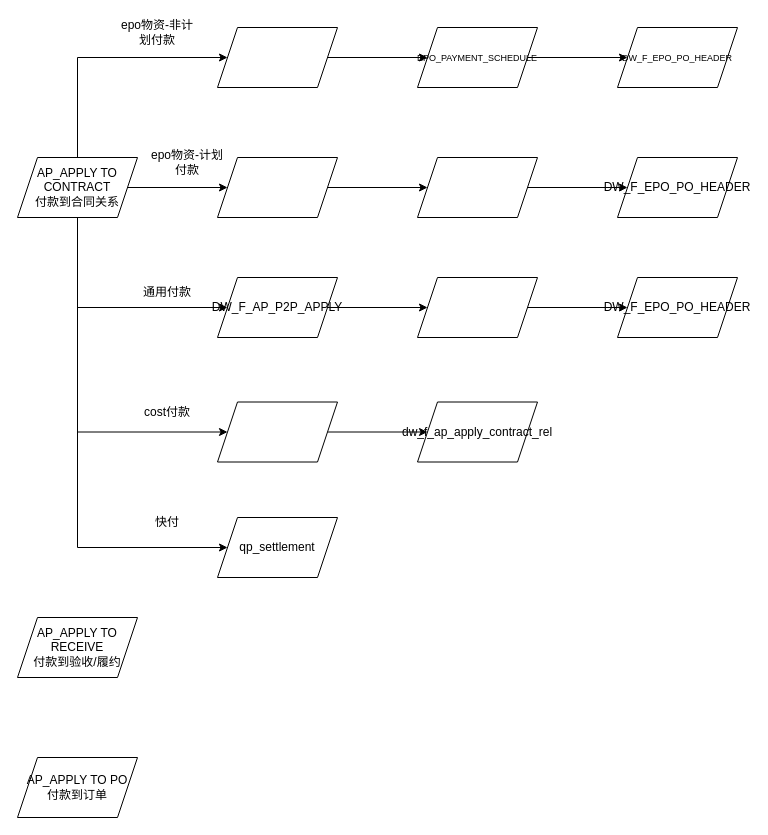
Image size: 768x835. Some labels were removed from this diagram. The shapes that lost their labels are listed below. From the top down, each one's centre as x and y in pixels, then its label:
[277,57]: epo_payment_main
[277,187]: epo_payment_plan_main
[477,187]: EPO_PAYMENT_PLAN_PO
[477,307]: DW_F_AP_APPLY_RCV_REL
[277,431]: dw_f_ap_apply
